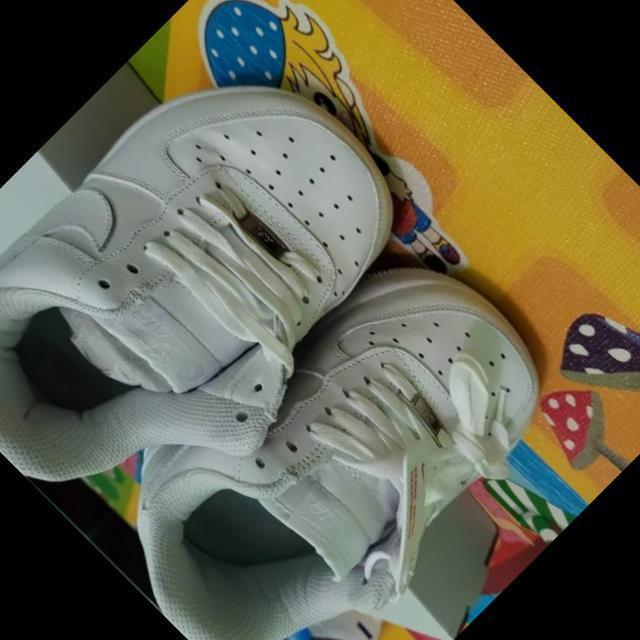nike original air force: (0, 6, 461, 572), (78, 208, 598, 640)
